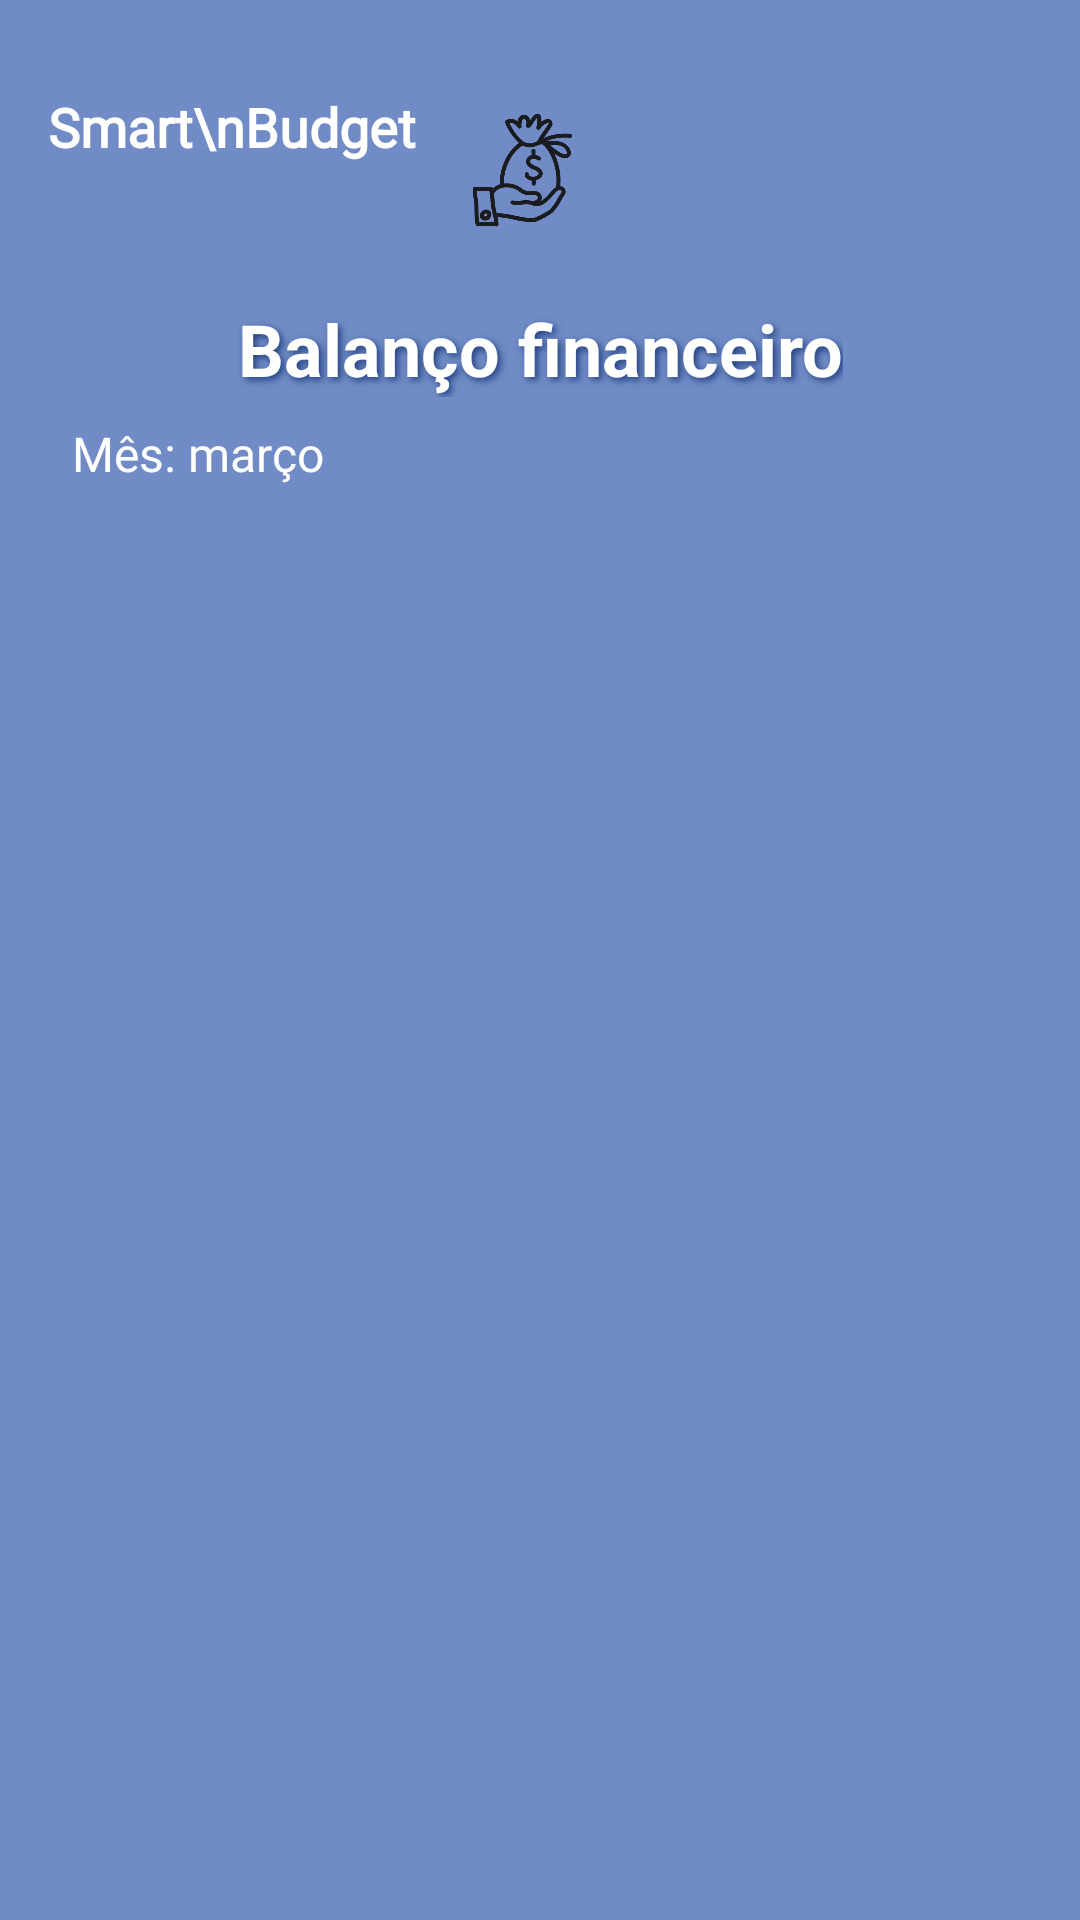

Icons on this 1080 x 1920 Android screen, each with the point to tap as point (x, y):
money savings save: point (522, 170)
